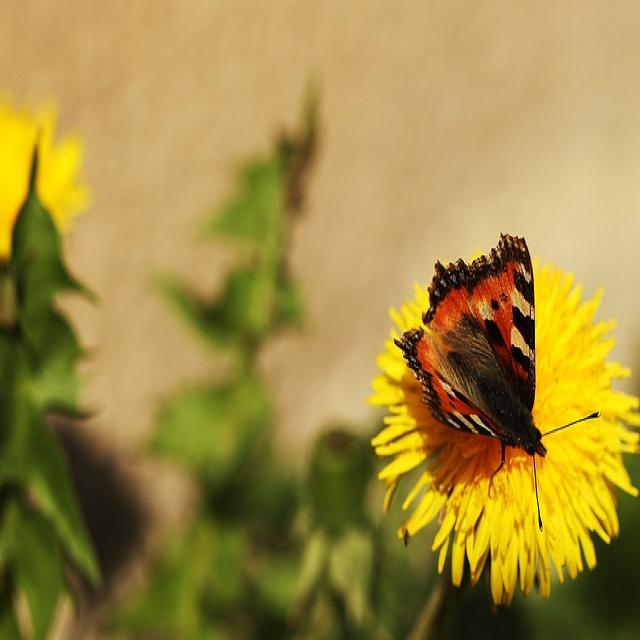butterfly: (420, 237, 547, 461)
